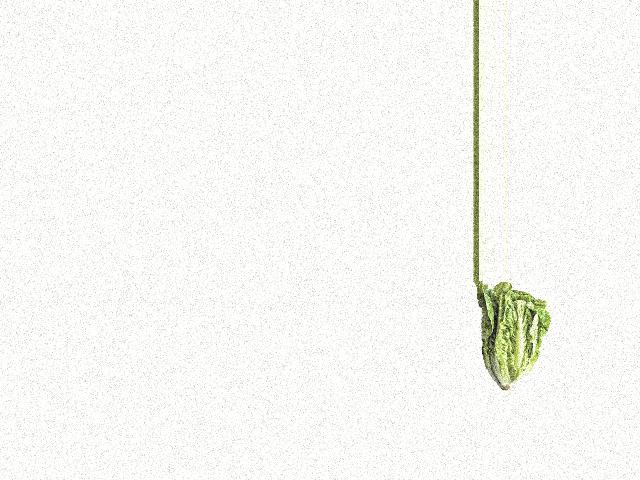lettuce: (476, 281, 554, 387)
